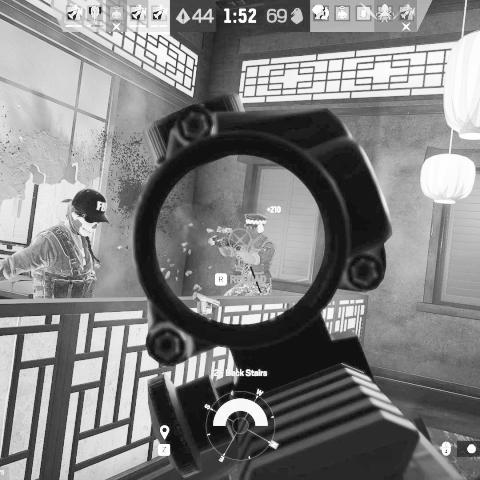Character: (0, 188, 109, 300), (208, 211, 277, 298)
Head: (65, 189, 109, 238), (244, 212, 267, 239)
